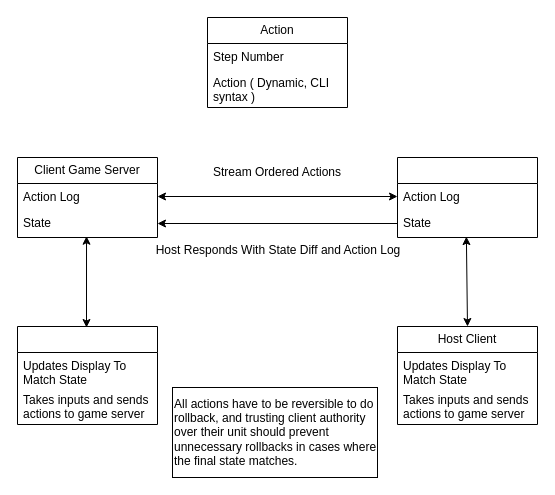
Image size: 555x495. Some labels were removed from this diagram. The shapes that lost their labels are listed below. From the top down, each one's box as (x1, y1, x2, y2) in pixels, then its label:
(396, 156, 538, 238): Host Game Server
(16, 326, 158, 424): Client Client
